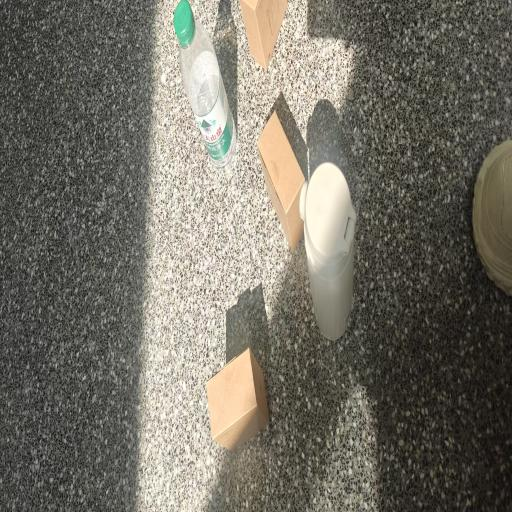bottle: (174, 0, 236, 168), (300, 162, 357, 340)
box: (257, 112, 305, 252), (206, 347, 269, 450), (240, 0, 287, 70)
